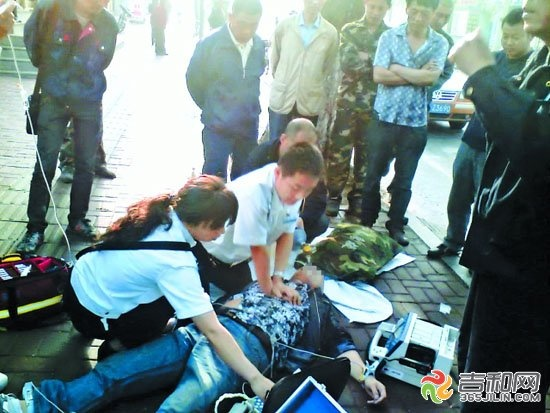falling: (12, 263, 407, 408)
